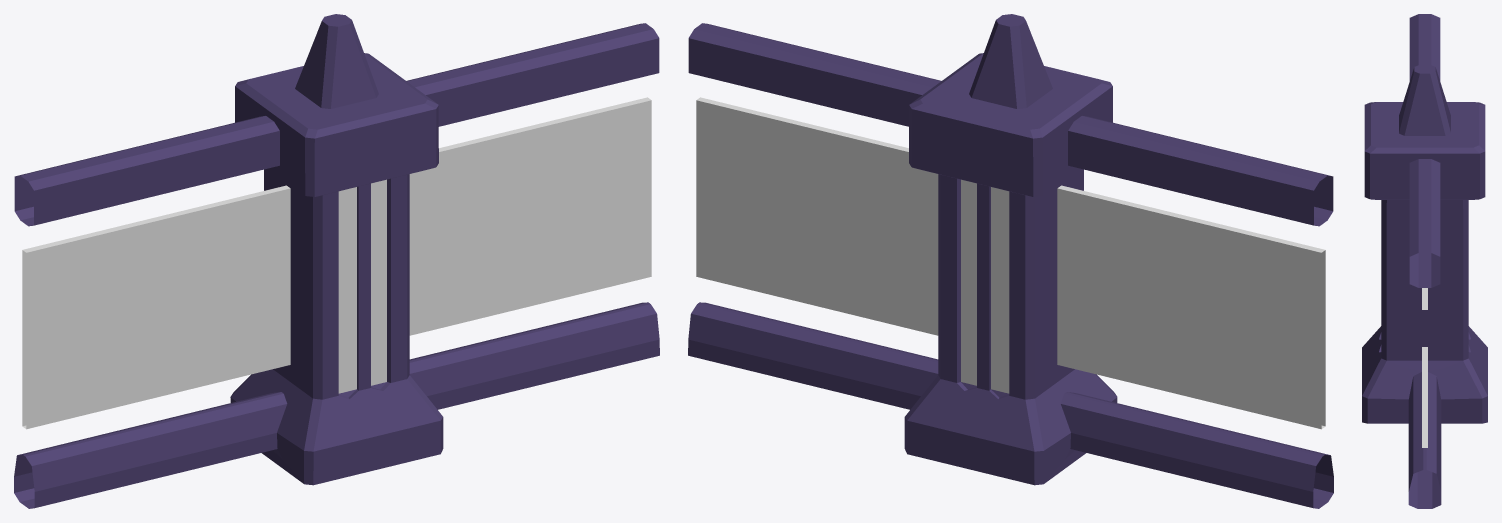
The model's file is Barrière_DroiteContinue2.fbx.
The picture shows the model from 3 angles, left to right: view 1: azimuth 30°, elevation 25°; view 2: azimuth 150°, elevation 25°; view 3: azimuth 270°, elevation 25°; orthographic projection. The views are drawn at different scales.
Parts seen in each view (by area): view 1: Barriere.004, Milieu.004; view 2: Barriere.004, Milieu.004; view 3: Barriere.004, Milieu.004.
Part boxes in pixels (x1,y1,x2,y2): Barriere.004: [14, 14, 659, 508]; Milieu.004: [22, 97, 651, 429]; Barriere.004: [688, 14, 1333, 508]; Milieu.004: [696, 97, 1325, 429]; Barriere.004: [1362, 14, 1487, 508]; Milieu.004: [1422, 288, 1427, 447].
Bounding box in the file's own units: 31.1 × 19.96 × 6.92.
